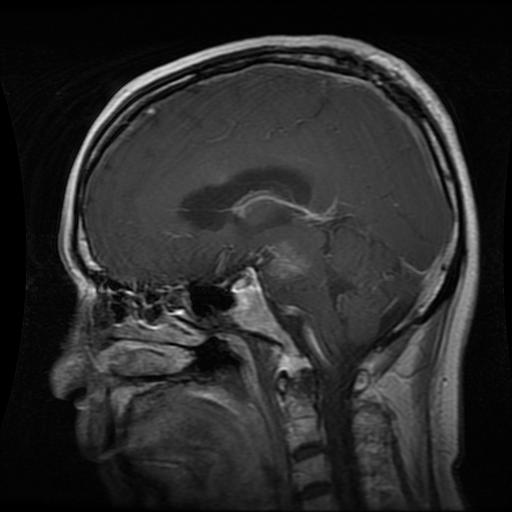Gliomia_tumour: (267, 240, 313, 281)
